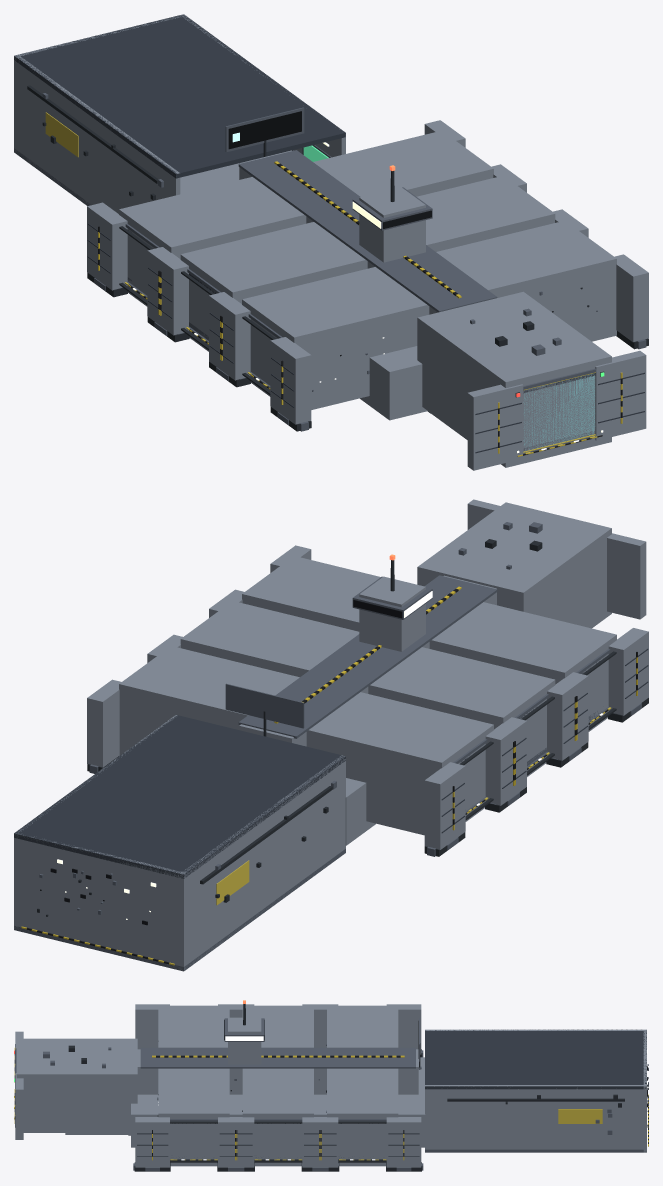
Rendered from spine-l.glb.
3 views of the same model, one above another, from view 1: azimuth 30°, elevation 25°; view 2: azimuth 150°, elevation 25°; view 3: azimuth 270°, elevation 25° (orthographic). The views are drawn at different scales.
Parts seen in each view (by area): view 1: hallRoof, heavyHall, berthSM2LBlock, berthSM2RBlock, hallWallL, berthSM0LBlock, berthSM1LBlock, keelRail, berthSM0RBlock, berthSM1RBlock, berthLBlastHouseL, berthLBlastHouseR (+16 smaller); view 2: hallRoof, heavyHall, hallBackWall, berthSM0LBlock, hallWallL, berthSM2LBlock, berthSM1LBlock, berthSM0RBlock, keelRail, berthSM1RBlock, berthSM2RBlock, controlTower (+13 smaller); view 3: hallRoof, hallWallR, heavyHall, berthSM0RBlock, berthSM1RBlock, berthSM2RBlock, keelRail, berthSM0LBlock, berthSM2LBlock, transferLiftShaft (×3), berthSM1LBlock, keel (+17 smaller).
Part boxes in pixels (bbox=[...]): hallRoof: bbox=[14, 14, 345, 178]; heavyHall: bbox=[417, 291, 611, 467]; berthSM2LBlock: bbox=[242, 267, 429, 409]; berthSM2RBlock: bbox=[436, 220, 616, 341]; hallWallL: bbox=[14, 54, 180, 213]; berthSM0LBlock: bbox=[119, 177, 306, 306]; berthSM1LBlock: bbox=[180, 222, 367, 351]; keelRail: bbox=[238, 150, 497, 312]; berthSM0RBlock: bbox=[313, 130, 493, 196]; berthSM1RBlock: bbox=[416, 175, 555, 251]; berthLBlastHouseL: bbox=[467, 384, 523, 470]; berthLBlastHouseR: bbox=[595, 350, 646, 440]; hallRoof: bbox=[14, 715, 345, 878]; heavyHall: bbox=[417, 502, 611, 628]; hallBackWall: bbox=[14, 833, 186, 970]; berthSM0LBlock: bbox=[306, 692, 493, 835]; hallWallL: bbox=[179, 755, 345, 971]; berthSM2LBlock: bbox=[429, 602, 616, 731]; berthSM1LBlock: bbox=[368, 647, 555, 776]; berthSM0RBlock: bbox=[119, 646, 299, 755]; keelRail: bbox=[238, 575, 497, 738]; berthSM1RBlock: bbox=[180, 601, 359, 677]; berthSM2RBlock: bbox=[242, 556, 380, 631]; controlTower: bbox=[359, 576, 425, 651]; hallRoof: bbox=[425, 1029, 646, 1089]; hallWallR: bbox=[425, 1085, 646, 1149]; heavyHall: bbox=[16, 1038, 137, 1132]; berthSM0RBlock: bbox=[327, 1068, 398, 1166]; berthSM1RBlock: bbox=[242, 1068, 313, 1166]; berthSM2RBlock: bbox=[158, 1068, 229, 1166]; keelRail: bbox=[140, 1047, 415, 1068]; berthSM0LBlock: bbox=[327, 1005, 398, 1047]; berthSM2LBlock: bbox=[158, 1005, 229, 1047]; transferLiftShaft (×3): bbox=[131, 1087, 425, 1147]; berthSM1LBlock: bbox=[242, 1005, 313, 1047]; keel: bbox=[137, 1049, 418, 1094].
Bounding box in the file's own units: 33.76 × 16.34 × 76.12.
